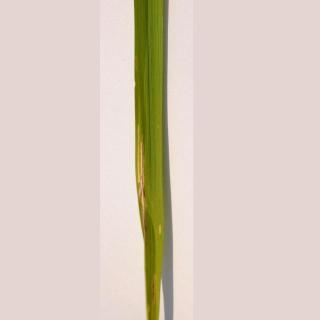Hawar-Daun: (130, 106, 180, 320)
